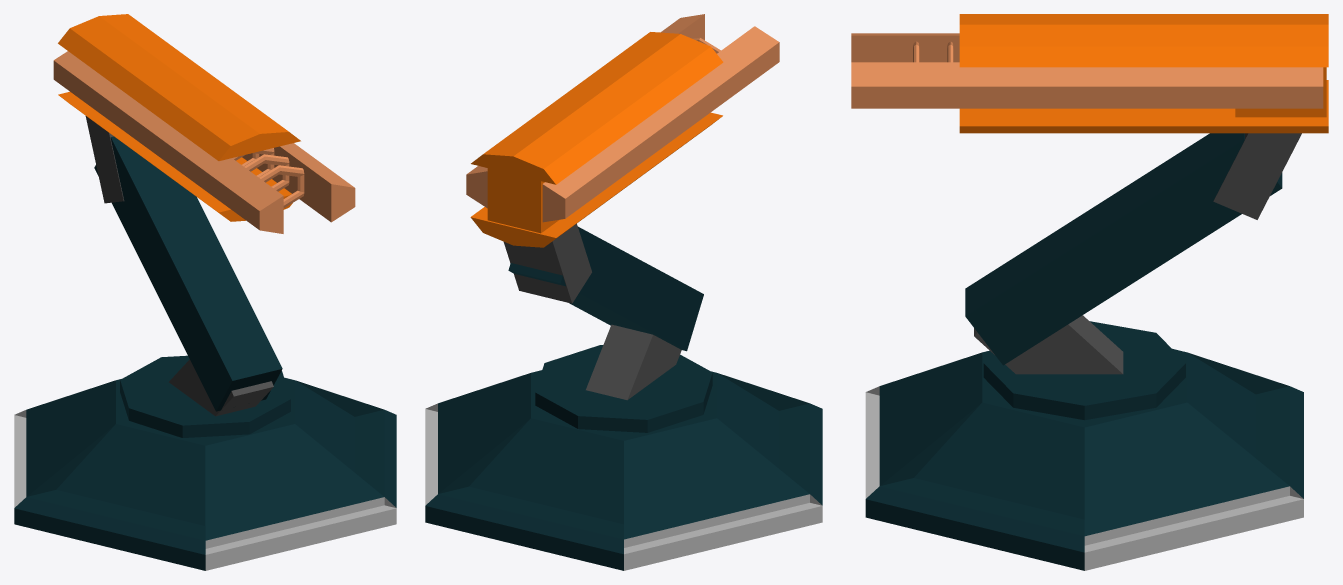
The model's file is RailgunTowerWithFreeTop.fbx.
The picture shows the model from 3 angles, left to right: view 1: azimuth 30°, elevation 25°; view 2: azimuth 150°, elevation 25°; view 3: azimuth 270°, elevation 25°; orthographic projection. The views are drawn at different scales.
Parts seen in each view (by area): view 1: Base, TopRotateUD, MiddleRotateLR; view 2: Base, TopRotateUD, MiddleRotateLR; view 3: Base, TopRotateUD, MiddleRotateLR.
Part boxes in pixels (left/top/right/bottom): Base: left=14, top=377, right=396, bottom=570; TopRotateUD: left=53, top=14, right=355, bottom=233; MiddleRotateLR: left=85, top=116, right=290, bottom=437; Base: left=425, top=370, right=822, bottom=570; TopRotateUD: left=466, top=14, right=779, bottom=247; MiddleRotateLR: left=503, top=223, right=712, bottom=432; Base: left=865, top=348, right=1303, bottom=570; TopRotateUD: left=851, top=14, right=1328, bottom=133; MiddleRotateLR: left=965, top=133, right=1301, bottom=420.
Size of the model in its own units: 200 by 192 by 189.
